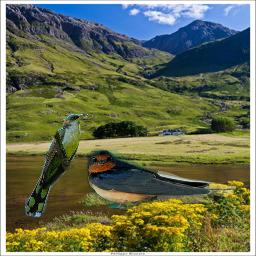Cuckoo: (25, 114, 88, 217)
Swallow: (84, 147, 236, 208)
